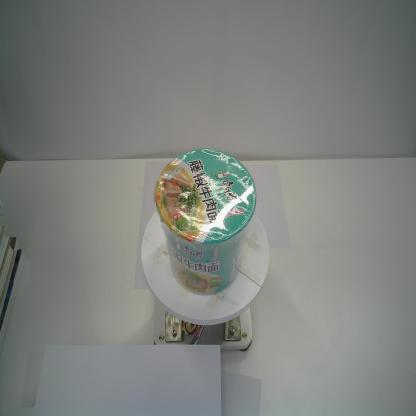Instant Noodles: (154, 147, 258, 296)
